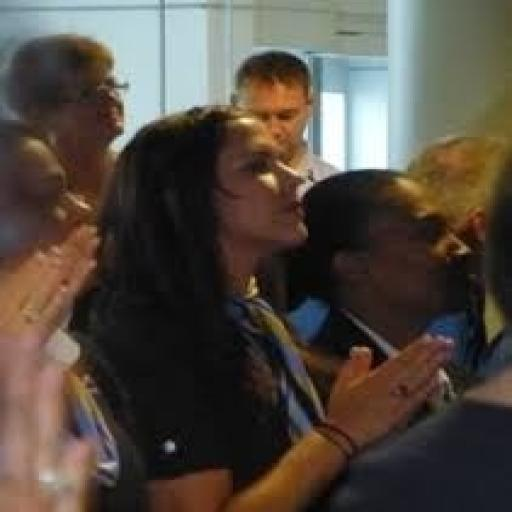clapping: (0, 92, 472, 498)
